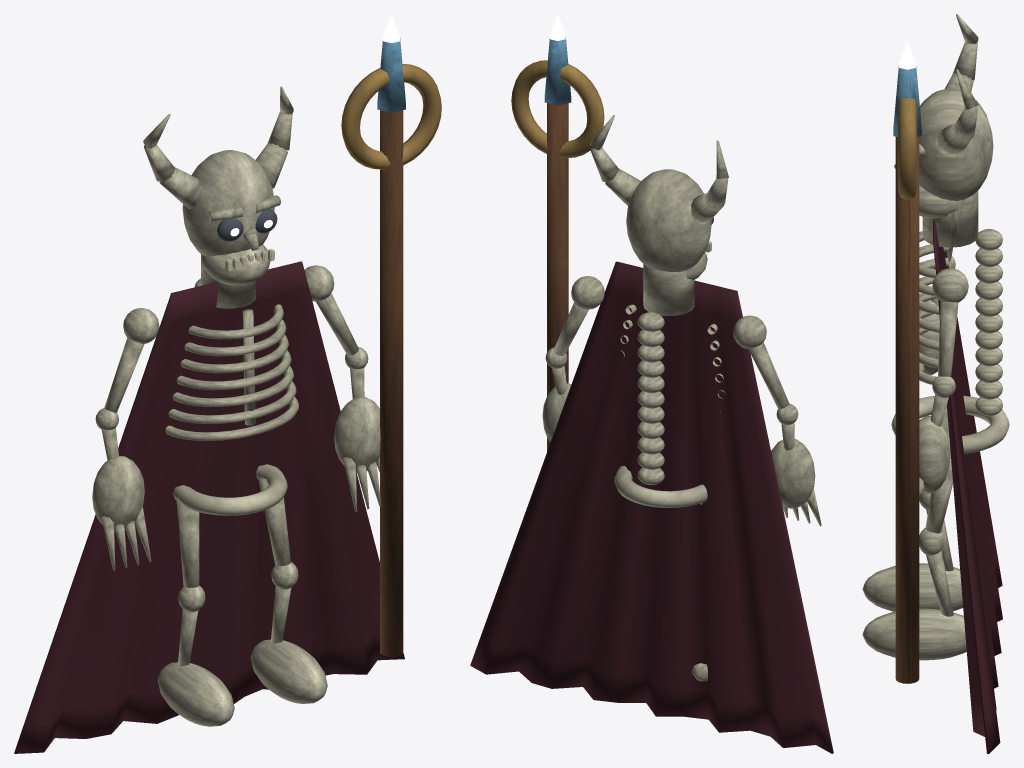
File: enemy_soul_eater.glb
3 renders of one model, left to right at view 1: azimuth 30°, elevation 25°; view 2: azimuth 150°, elevation 25°; view 3: azimuth 270°, elevation 25°, orthographic. The views are drawn at different scales.
Visible parts, largest first — view 1: Worn_crimson_cloth, Aged_bone.005, Old_oak, Aged_bone, Aged_bone.002, Aged_bone.001, Aged_bone.004, Aged_bone.003, Antique_brass, Blue_glacial_ice, Eye_socket; view 2: Worn_crimson_cloth, Aged_bone.005, Aged_bone, Old_oak, Aged_bone.002, Antique_brass, Aged_bone.004, Blue_glacial_ice; view 3: Old_oak, Worn_crimson_cloth, Aged_bone.005, Aged_bone, Aged_bone.003, Aged_bone.004, Aged_bone.001, Antique_brass, Blue_glacial_ice, Aged_bone.002, Soul_light.001.
Part boxes in pixels (x1,y1,x2,y2): Worn_crimson_cloth: [14, 261, 404, 753]; Aged_bone.005: [143, 86, 293, 308]; Old_oak: [380, 110, 403, 656]; Aged_bone: [165, 278, 298, 515]; Aged_bone.002: [92, 308, 159, 570]; Aged_bone.001: [157, 497, 234, 726]; Aged_bone.004: [304, 265, 381, 511]; Aged_bone.003: [250, 476, 327, 703]; Antique_brass: [341, 64, 441, 169]; Blue_glacial_ice: [377, 38, 405, 112]; Eye_socket: [217, 209, 277, 241]; Worn_crimson_cloth: [470, 261, 833, 753]; Aged_bone.005: [589, 115, 728, 316]; Aged_bone: [614, 304, 725, 507]; Old_oak: [547, 103, 568, 451]; Aged_bone.002: [733, 315, 821, 526]; Antique_brass: [511, 60, 604, 157]; Aged_bone.004: [542, 276, 604, 442]; Blue_glacial_ice: [544, 36, 571, 105]; Old_oak: [895, 137, 919, 683]; Worn_crimson_cloth: [933, 220, 1002, 753]; Aged_bone.005: [894, 14, 993, 247]; Aged_bone: [891, 229, 1009, 453]; Aged_bone.003: [862, 449, 966, 660]; Aged_bone.004: [919, 268, 968, 495]; Aged_bone.001: [862, 408, 963, 611]; Antique_brass: [898, 98, 917, 199]; Blue_glacial_ice: [893, 66, 921, 136]; Aged_bone.002: [919, 247, 955, 374]; Soul_light.001: [899, 41, 915, 69].
Bounding box in the file's own units: 2.74 × 4.59 × 0.8905.
7 materials, 5 textured.
